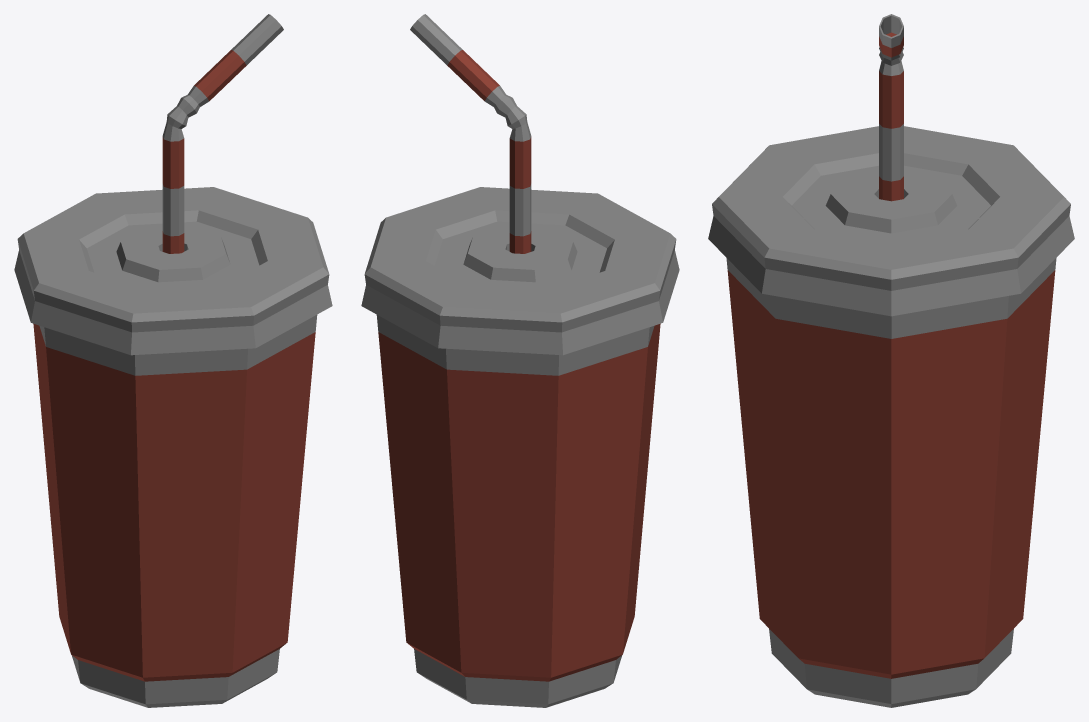
File: soda.glb
The picture shows the model from 3 angles, left to right: view 1: azimuth 30°, elevation 25°; view 2: azimuth 150°, elevation 25°; view 3: azimuth 270°, elevation 25°; orthographic projection. The views are drawn at different scales.
Visible parts, largest first — view 1: soda; view 2: soda; view 3: soda.
Part boxes in pixels (x1,y1,x2,y2): soda: [14, 14, 332, 707]; soda: [361, 14, 679, 707]; soda: [708, 14, 1074, 707].
Bounding box in the file's own units: 0.0569 × 0.12 × 0.0569.
